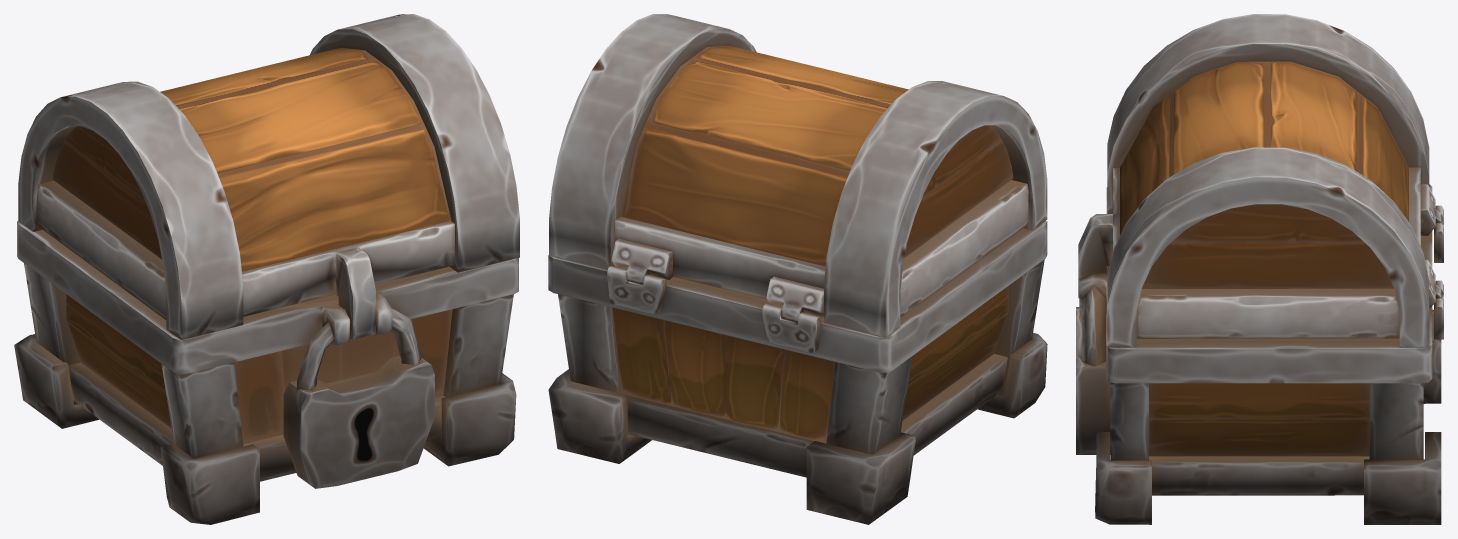
File: Chest.fbx
3 renders of one model, left to right at view 1: azimuth 30°, elevation 25°; view 2: azimuth 150°, elevation 25°; view 3: azimuth 270°, elevation 25°, orthographic.
Visible parts, largest first — view 1: Chest; view 2: Chest; view 3: Chest.
Part boxes in pixels (x1,y1,x2,y2): Chest: (14, 14, 519, 524); Chest: (548, 14, 1047, 524); Chest: (1076, 14, 1443, 524).
Bounding box in the file's own units: 70.04 × 69.76 × 65.57.
1 material, 1 textured.
